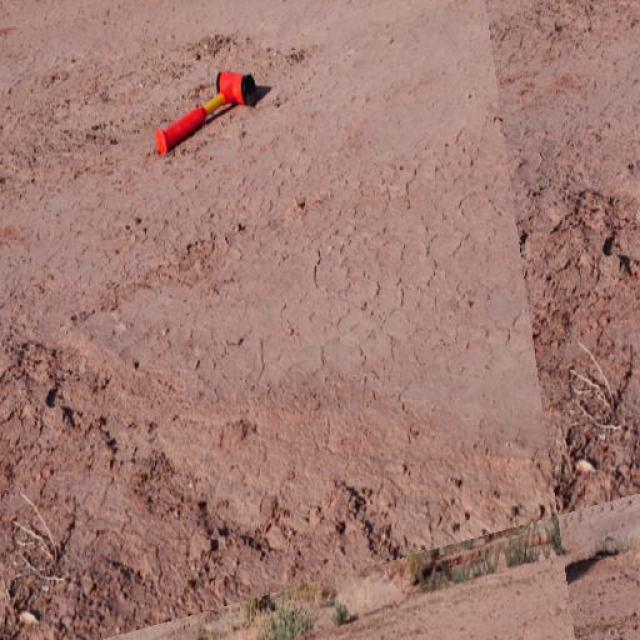mallet: (152, 69, 258, 156)
